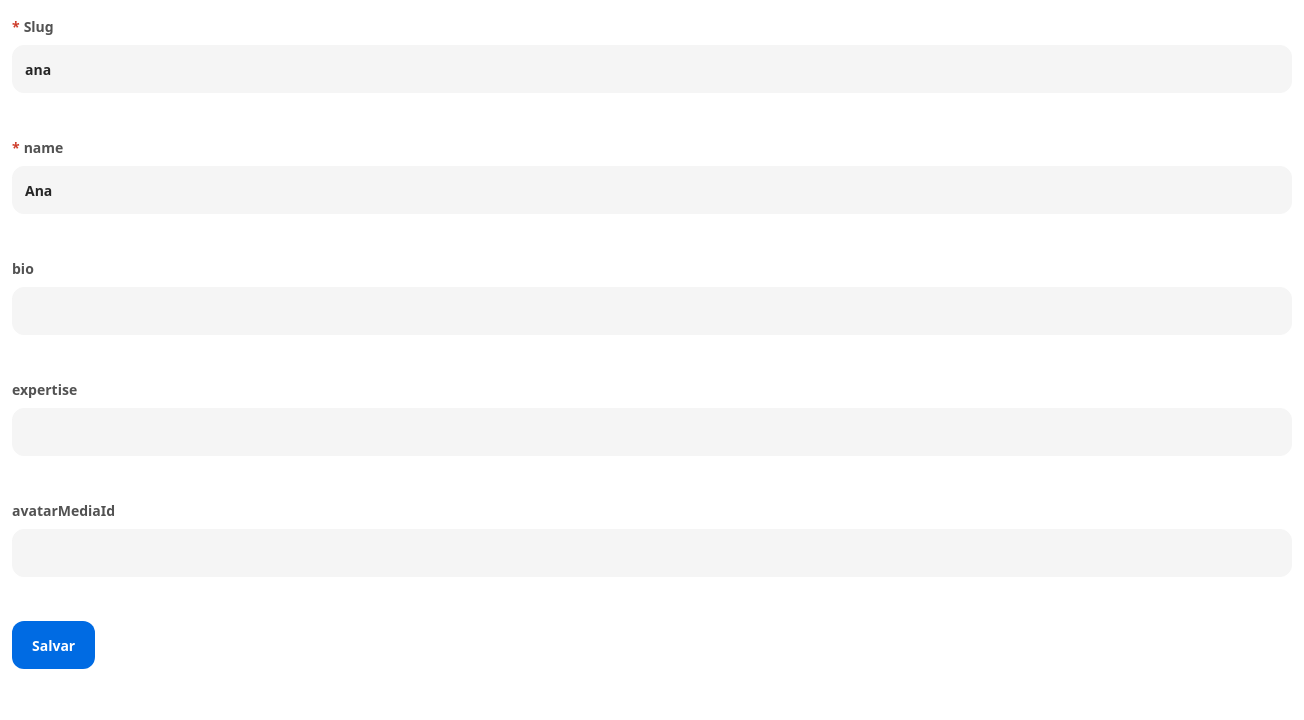
Test: SchemaForm com o servidor › a recusa do servidor aparece no campo do path e a sem path no resumo
Click the button "Salvar" at (54, 645), box [12, 621, 95, 669]
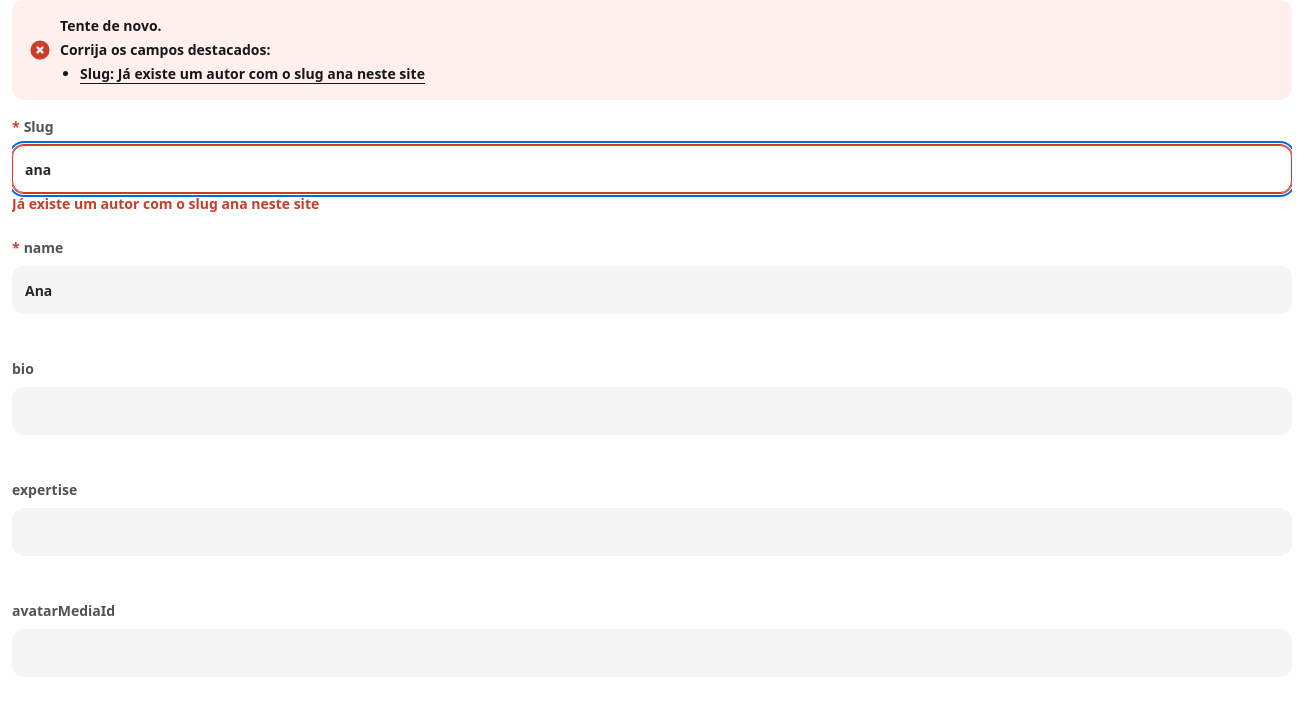
Now the text "Já existe um autor com o slug ana neste site" is shown, box [12, 193, 319, 214]
Now the text "Tente de novo." is shown, box [60, 16, 162, 35]
Now the button reads "Slug: Já existe um autor com o slug ana neste site", box [80, 64, 425, 84]
